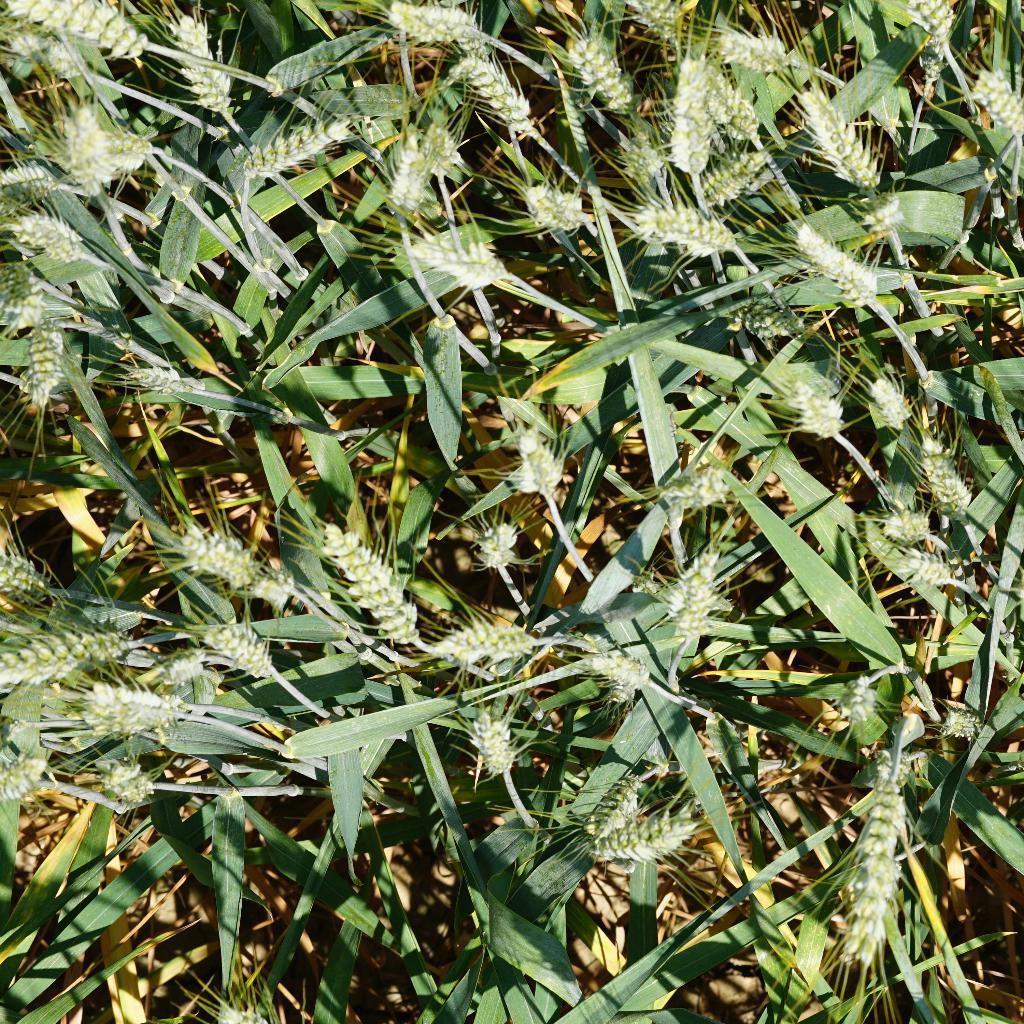0-0: (847, 762, 918, 970), (313, 519, 426, 645), (791, 75, 885, 191), (617, 194, 746, 271), (0, 0, 168, 59), (0, 618, 159, 677), (58, 112, 178, 189), (656, 48, 722, 185), (449, 52, 538, 152), (795, 215, 879, 317), (557, 18, 642, 118), (232, 120, 351, 185), (19, 318, 103, 410), (79, 679, 212, 736), (423, 608, 538, 673), (661, 545, 733, 647), (651, 452, 759, 519), (691, 58, 773, 146), (709, 18, 811, 88), (169, 11, 235, 118), (4, 205, 109, 271), (160, 524, 271, 586), (183, 617, 291, 677), (574, 813, 701, 864), (385, 122, 452, 216), (411, 234, 511, 296), (460, 697, 527, 788), (496, 419, 568, 501), (697, 144, 774, 218), (0, 537, 74, 612), (911, 438, 978, 520), (961, 55, 1024, 142), (561, 636, 653, 695), (720, 293, 813, 349), (385, 0, 486, 49), (516, 176, 593, 240), (778, 377, 851, 444), (0, 261, 66, 335), (576, 768, 643, 837), (856, 361, 914, 437), (594, 0, 687, 47), (904, 26, 964, 96), (87, 754, 163, 807), (823, 662, 884, 728), (0, 746, 65, 807), (124, 354, 201, 400), (869, 497, 942, 545), (892, 548, 967, 594), (610, 126, 668, 185), (0, 155, 67, 205), (868, 735, 931, 788), (937, 694, 990, 754), (857, 185, 909, 244), (470, 522, 524, 576), (906, 0, 966, 48), (242, 565, 306, 606)
